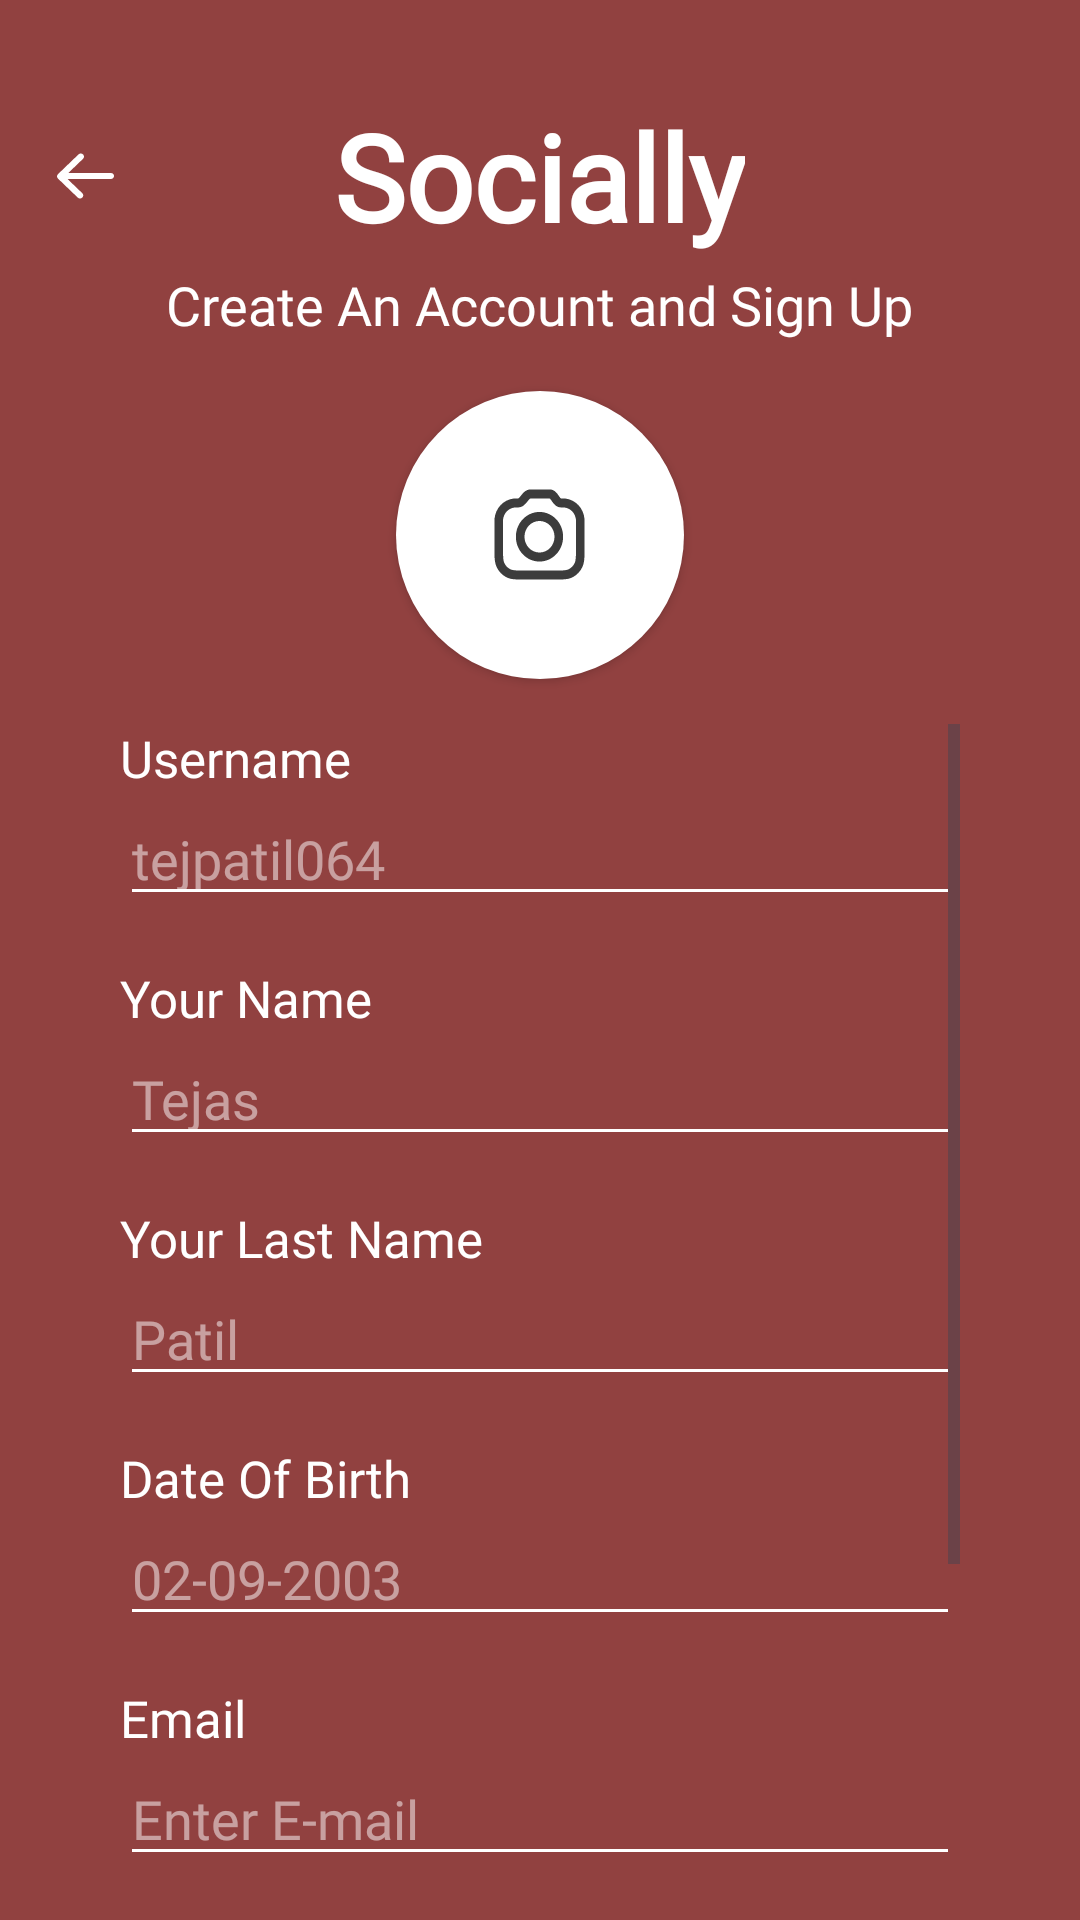

Named icons in this screenshot (1080px x 1920px) and their bounding boxes, [x1,y1,x2,y2]:
camera: [494,489,585,580]
